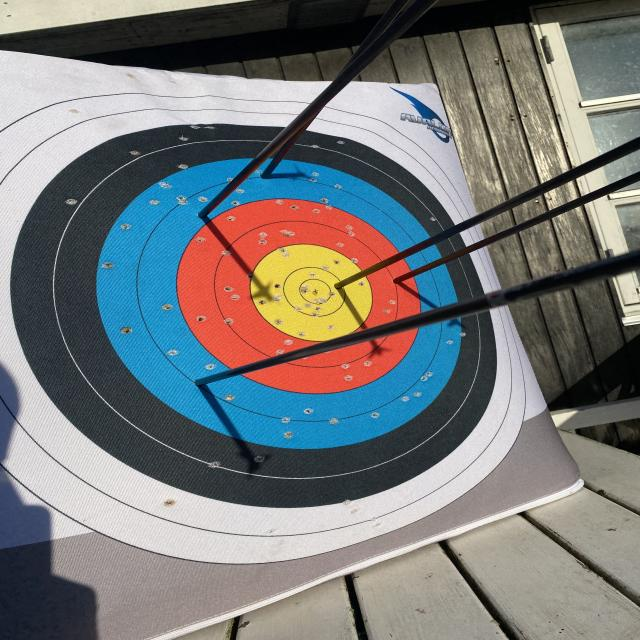Arrow_Blue: (186, 363, 224, 403), (251, 157, 290, 187), (195, 200, 218, 226)
Arrow_Red: (384, 268, 419, 292)
Arrow_Yellow: (326, 275, 364, 308)
